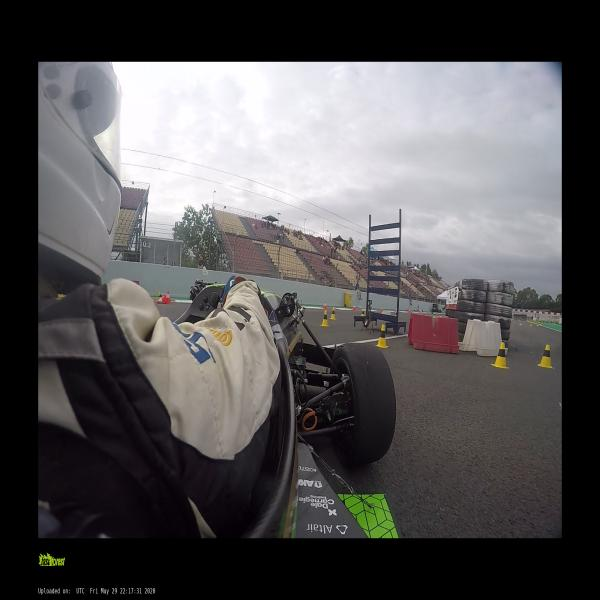orange_cone: (156, 295, 167, 304), (165, 292, 172, 302), (380, 306, 384, 314), (323, 302, 326, 310), (352, 304, 355, 311)
yellow_cone: (537, 344, 554, 370), (492, 343, 508, 369), (375, 323, 389, 351), (320, 310, 329, 327), (330, 308, 335, 320), (157, 291, 163, 297), (432, 314, 436, 320), (439, 313, 442, 319), (362, 310, 364, 316)
